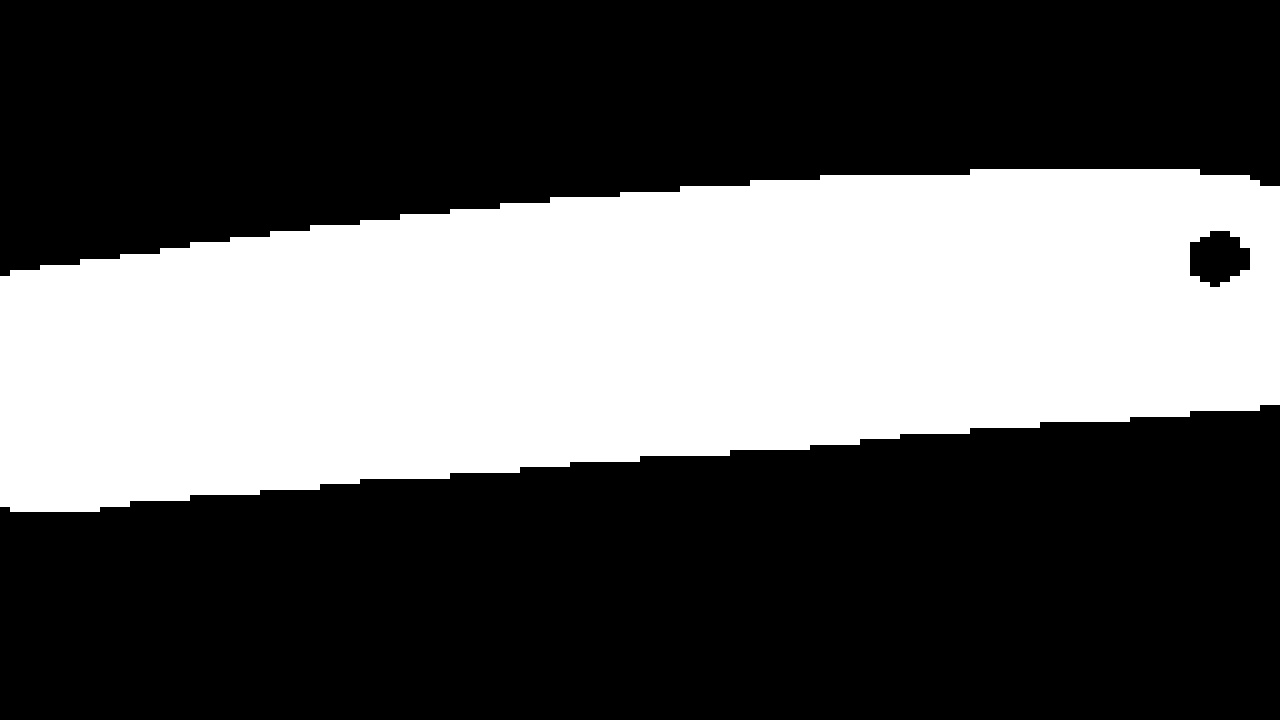Turbine: (3, 144, 1274, 537)
